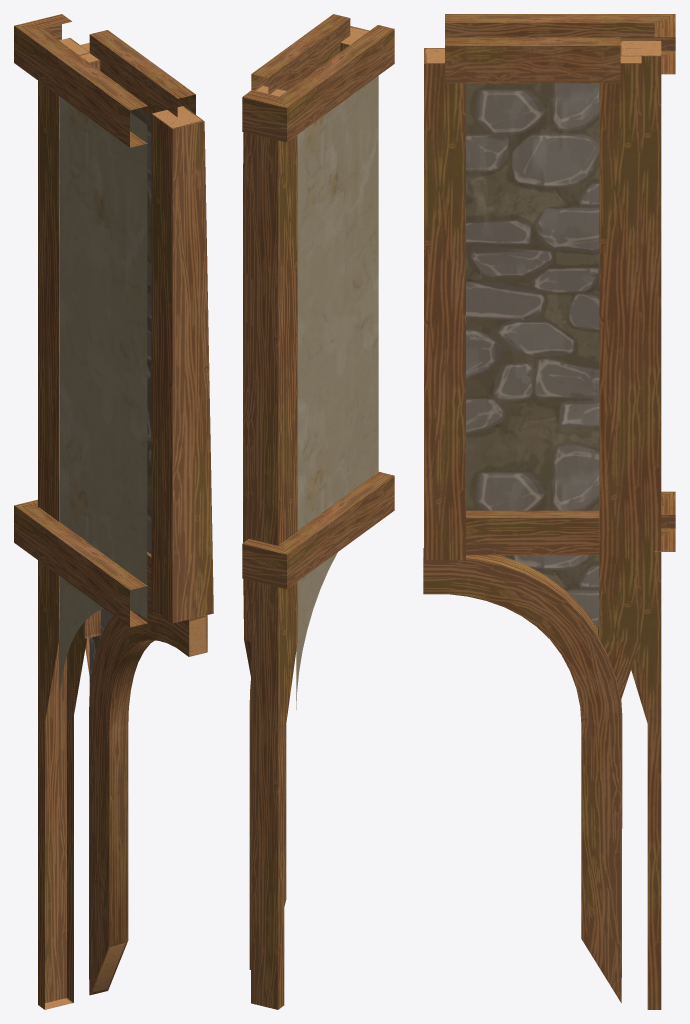
Rendered from Overhang_Side_UnevenBrick_Short_R.gltf.
3 views of the same model, side by side, from view 1: azimuth 30°, elevation 25°; view 2: azimuth 150°, elevation 25°; view 3: azimuth 270°, elevation 25° (orthographic). The views are drawn at different scales.
Parts seen in each view (by area): view 1: Overhang_Side_UnevenBrick_Short_R; view 2: Overhang_Side_UnevenBrick_Short_R; view 3: Overhang_Side_UnevenBrick_Short_R.
Boxes of the visible parts, box(x1,y1,x2,y2) form: Overhang_Side_UnevenBrick_Short_R: box(14, 14, 213, 1009); Overhang_Side_UnevenBrick_Short_R: box(242, 14, 394, 1009); Overhang_Side_UnevenBrick_Short_R: box(423, 14, 675, 1009).
Bounding box in the file's own units: 0.4793 × 6.12 × 1.44.
3 materials, 3 textured.
